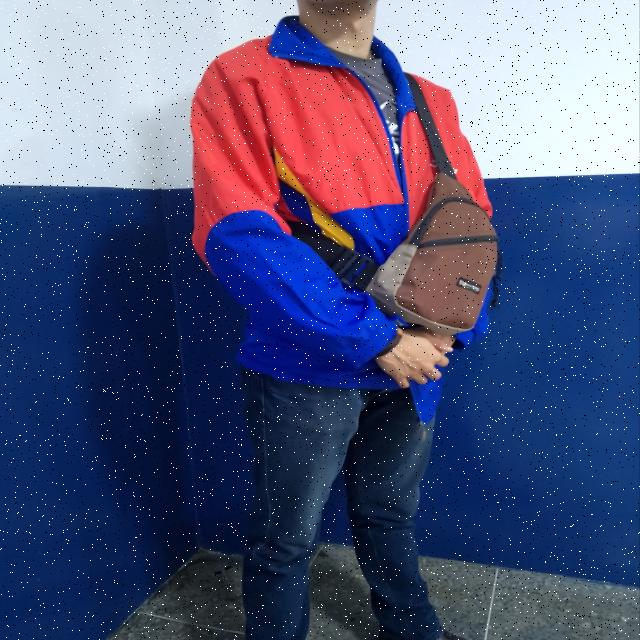chaqueta_unefa: (189, 15, 494, 424)
pantalon_oscuro: (235, 364, 458, 640)
